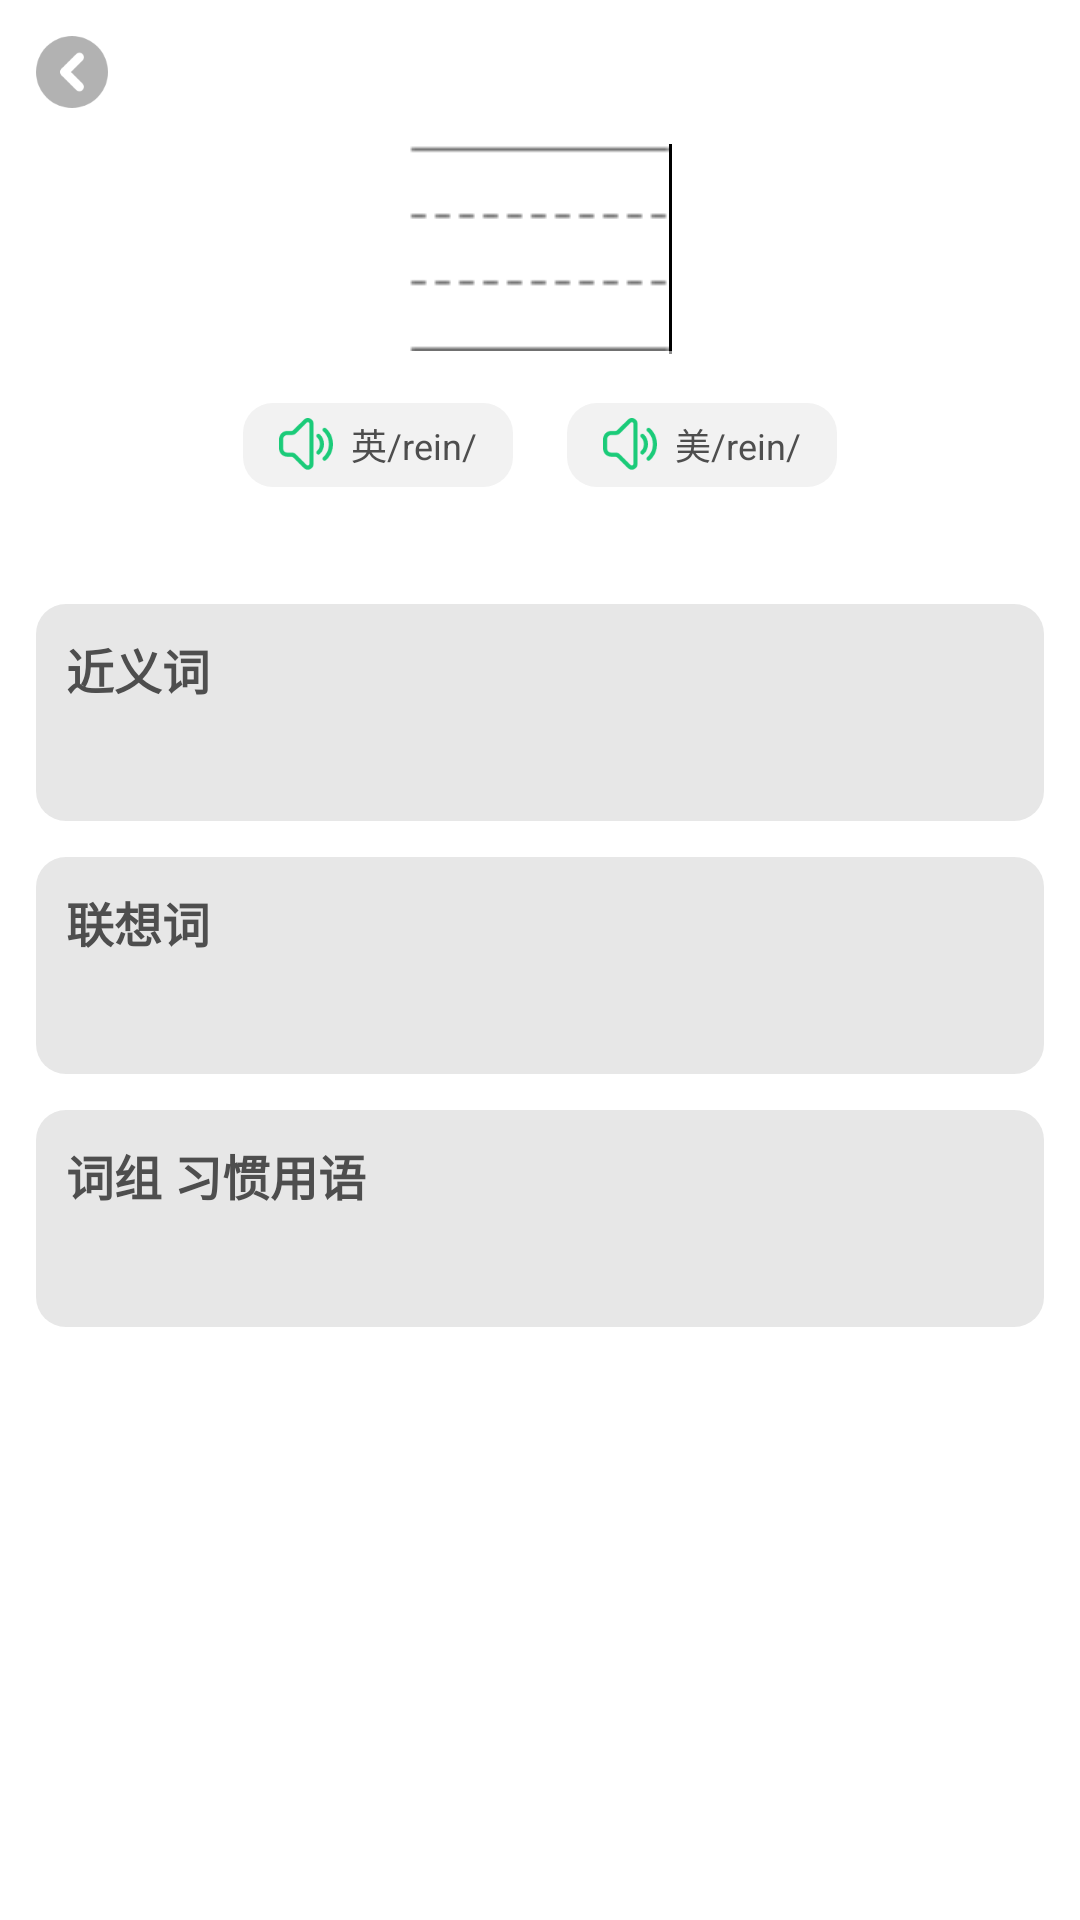

Icons on this 1080 × 1920 Android screen, each with the point to tap as (x,y):
back: (72,72)
play: (306,444), (630,444)
